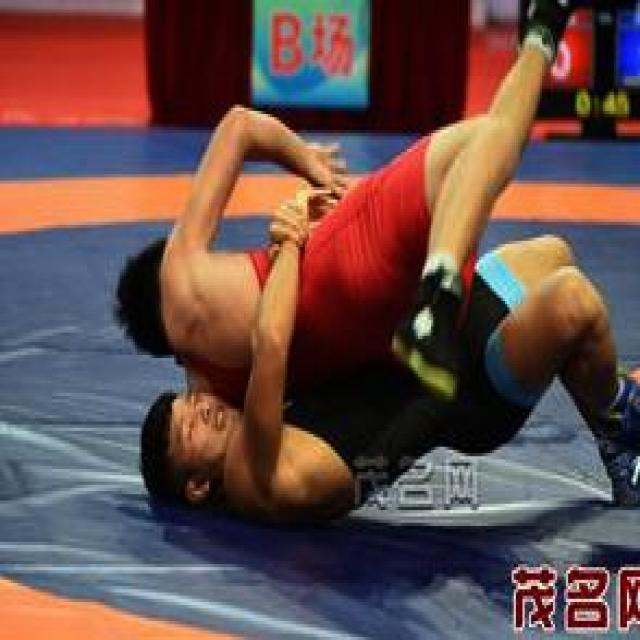fall: (135, 254, 603, 536)
